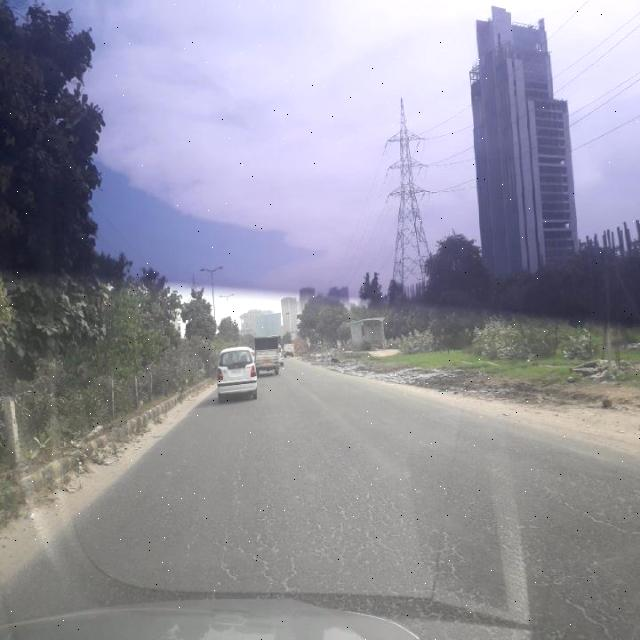D20: (105, 426, 640, 604)
